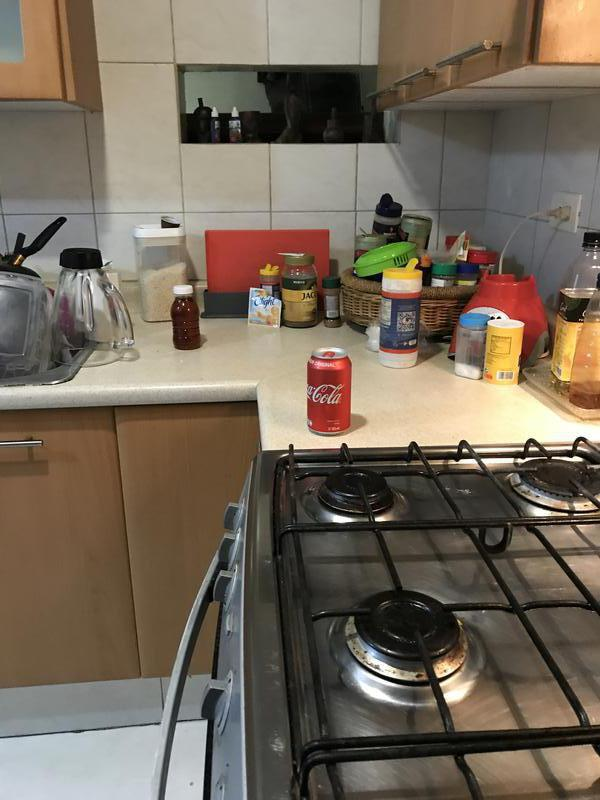coca_cola: (306, 349, 352, 437)
